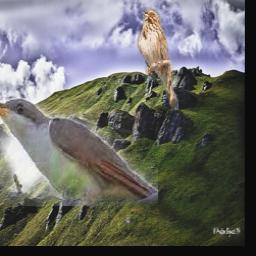Cuckoo: (0, 98, 159, 206)
Sparrow: (138, 7, 180, 112)
